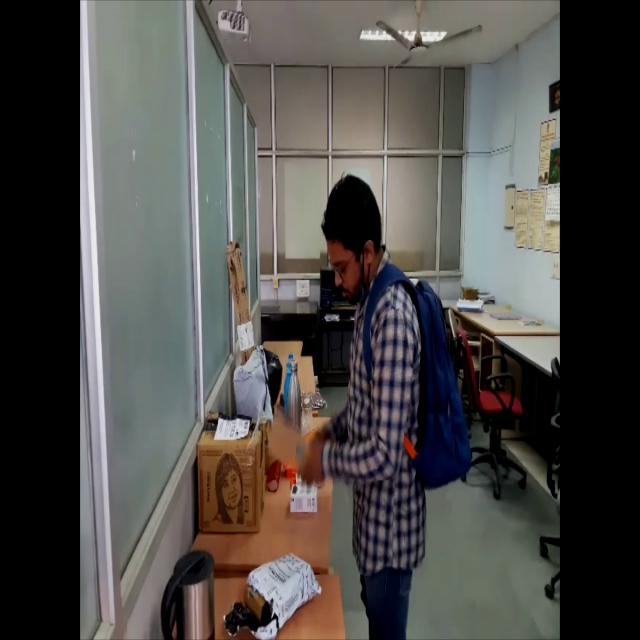normal: (302, 149, 473, 640)
